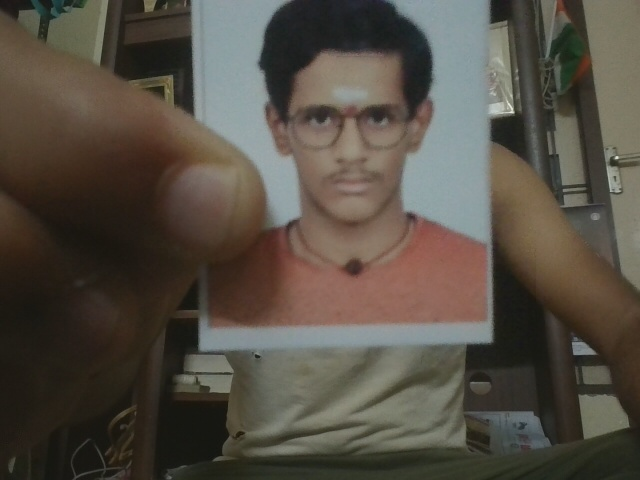fake: (260, 51, 442, 233)
